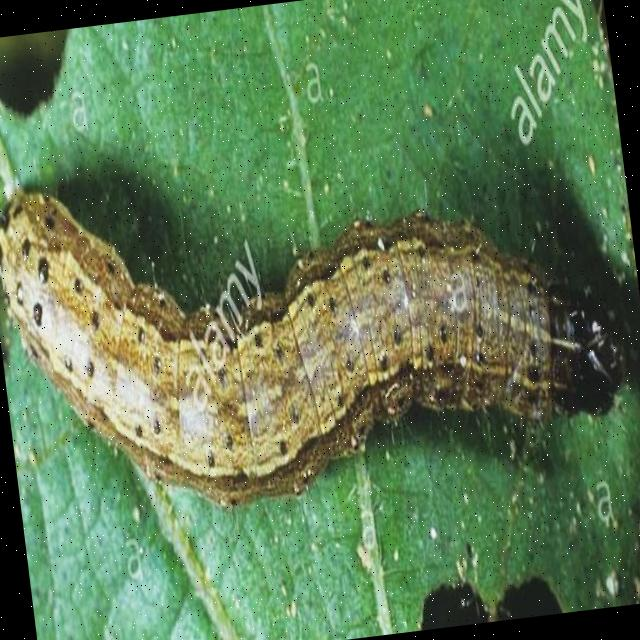worm: (1, 116, 636, 536)
